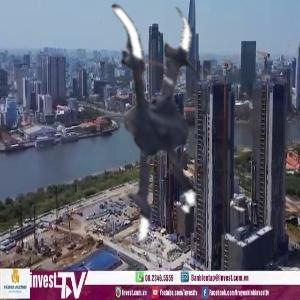drone: (17, 3, 252, 238)
